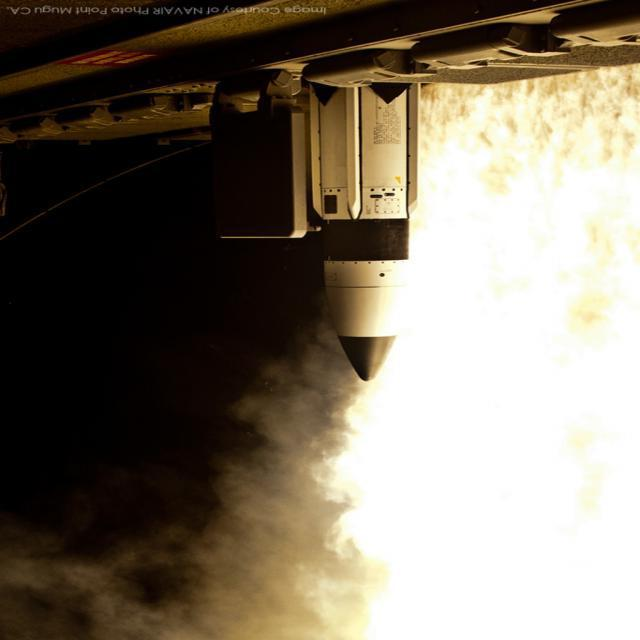missile: (304, 65, 429, 383), (338, 75, 369, 235)
